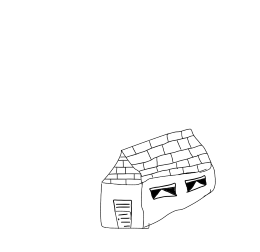bottom_placed_house: (0, 1, 260, 252)
door: (109, 195, 136, 233)
open_window: (146, 182, 180, 201), (184, 173, 210, 195)
roof: (95, 126, 222, 187)
small_house: (0, 0, 260, 252)
wall: (96, 177, 147, 233)
